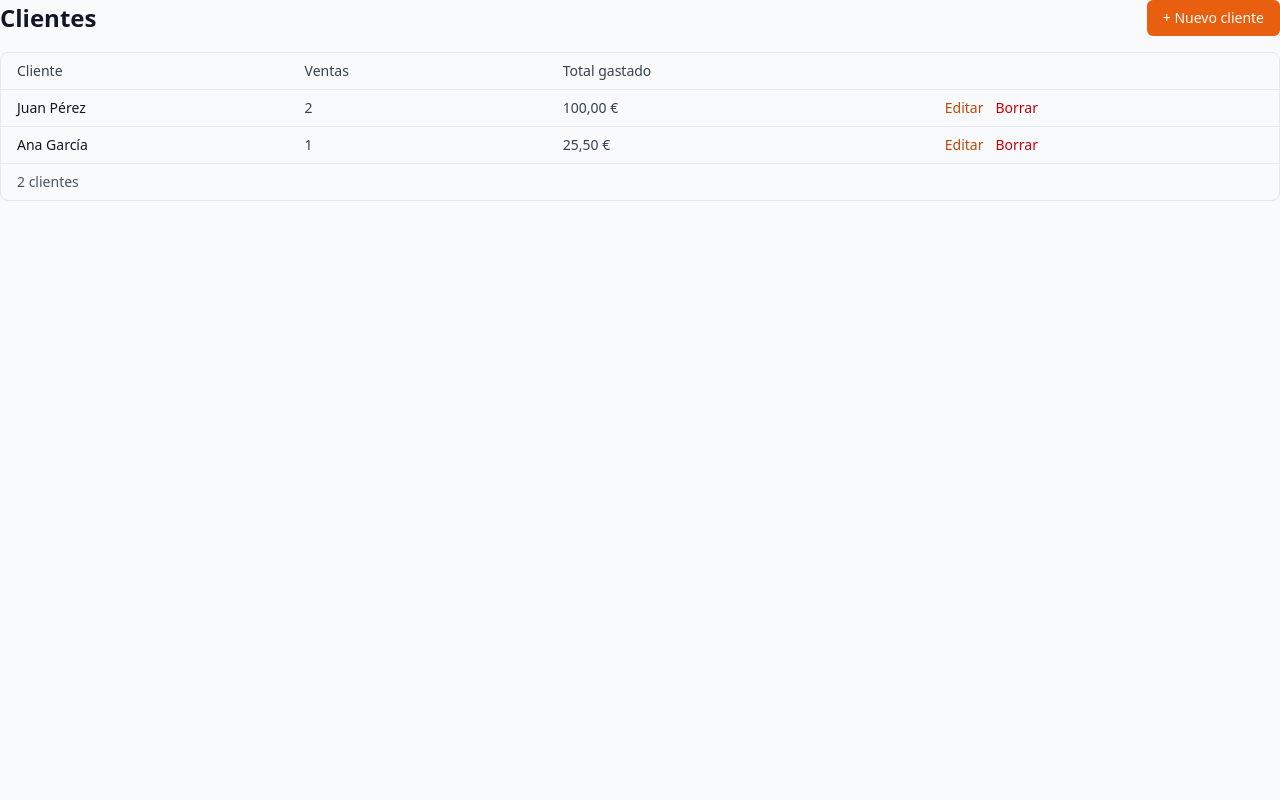
Scenario: CustomersListPage › si el borrado simple falla, el error se muestra dentro de la modal
Click the button with aria-label "Borrar Juan Pérez" at (1017,108), box x1=996 y1=98 x2=1038 y2=118
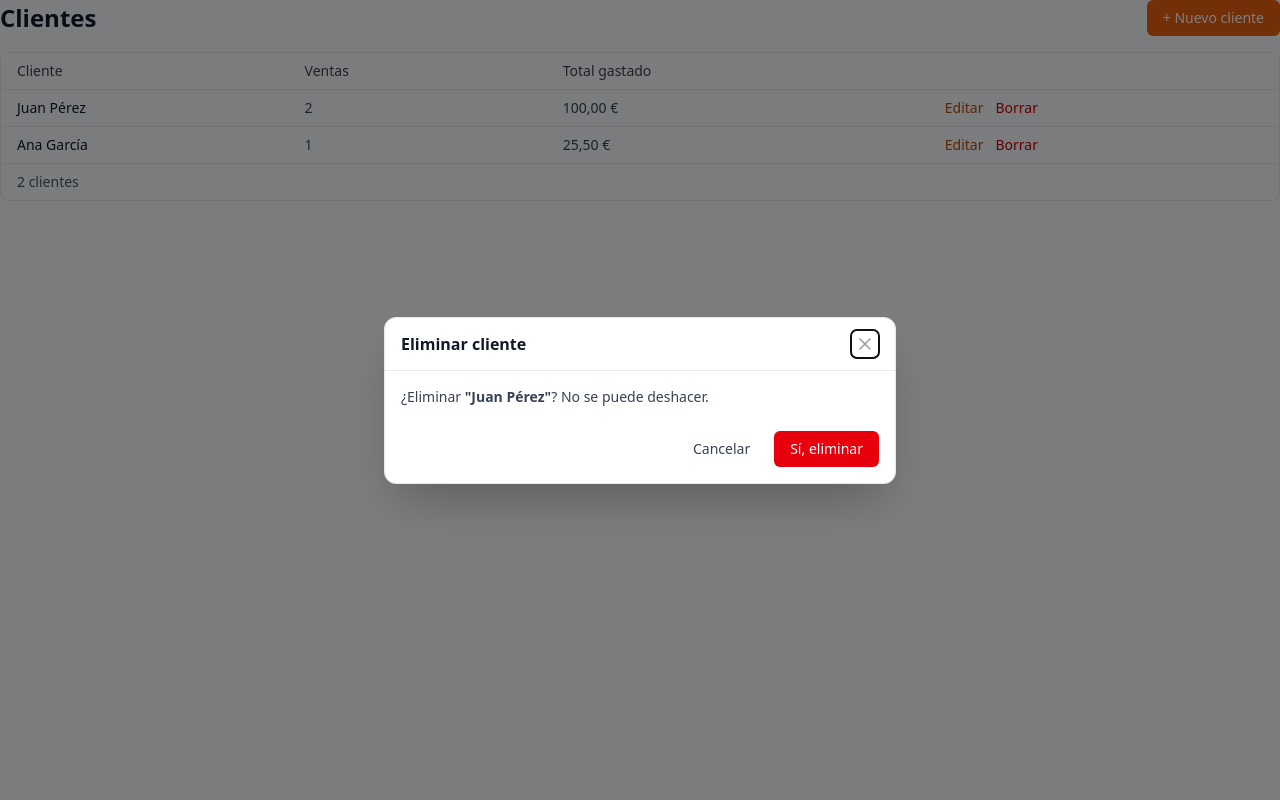
Click the button "Sí, eliminar" at (827,448), box x1=774 y1=430 x2=879 y2=466
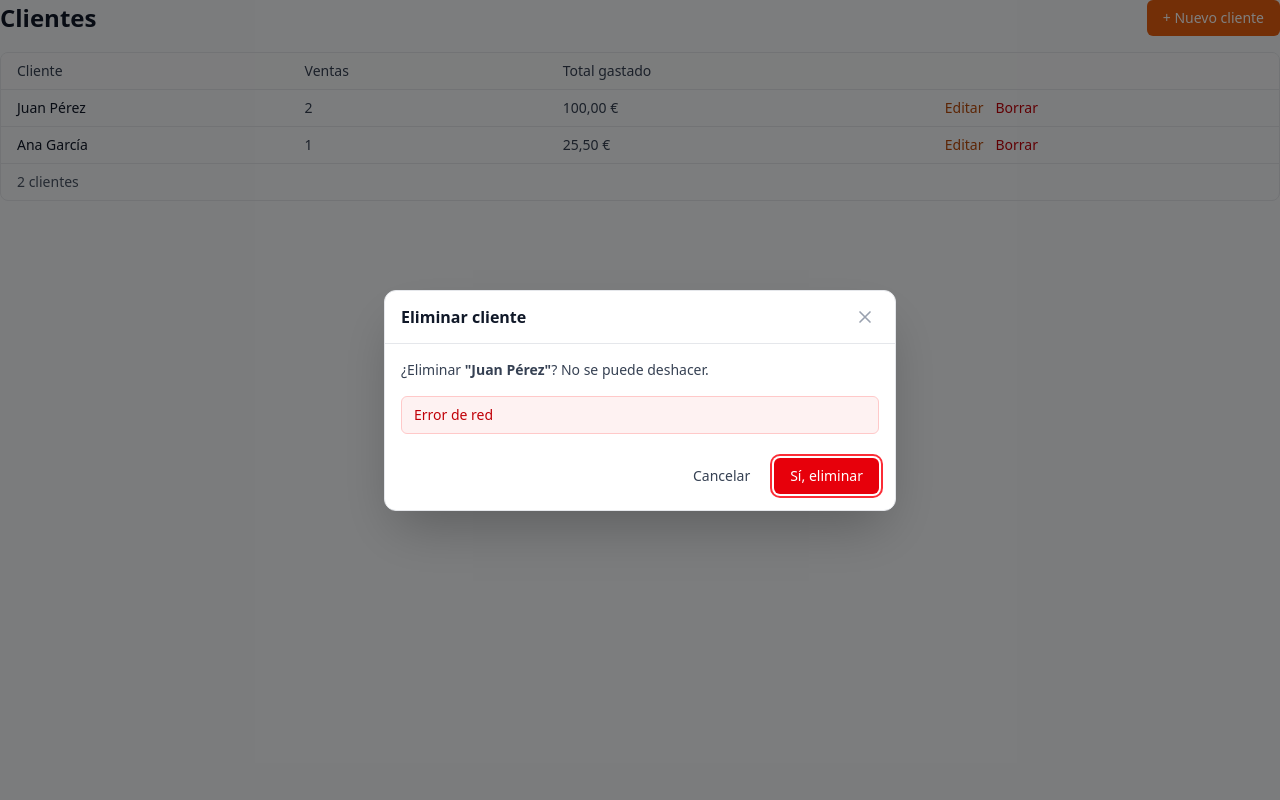
Now the dialog is shown, box x1=384 y1=290 x2=896 y2=510
Now the message reads "Error de red", box x1=414 y1=404 x2=493 y2=424
